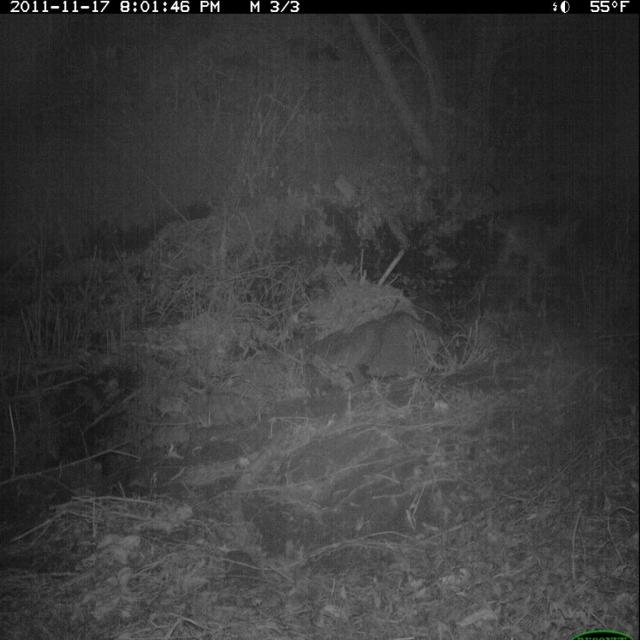coyote: (484, 200, 588, 317)
